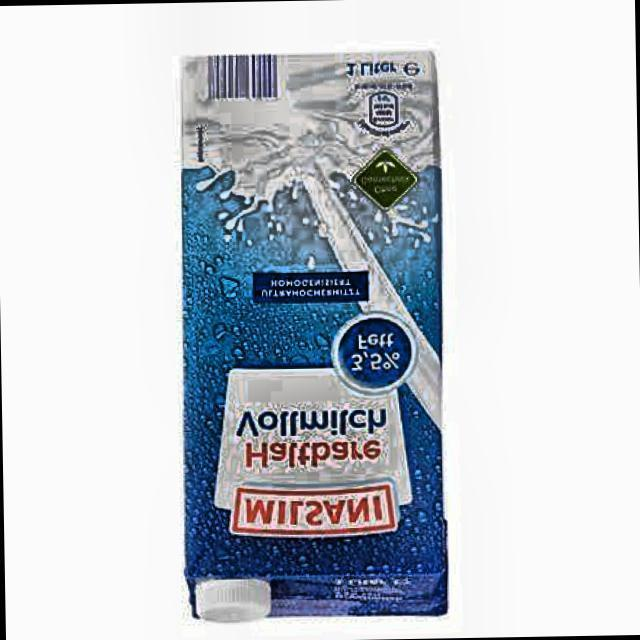cardboard: (173, 50, 449, 623)
